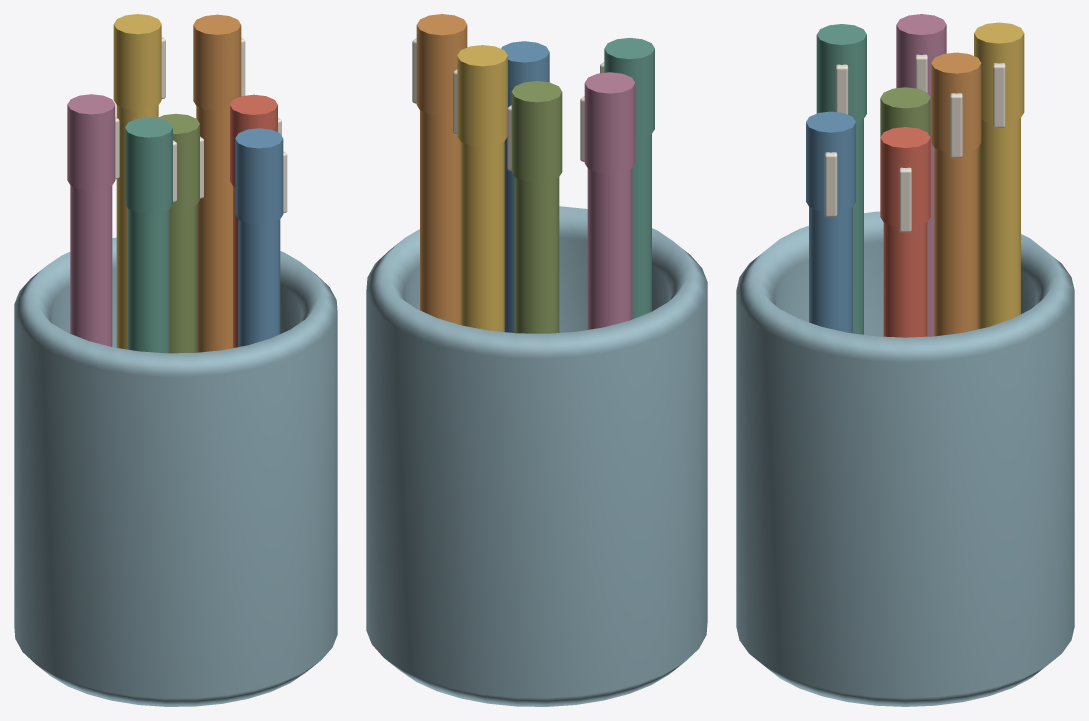
The model's file is urban-marker-cup-v1.glb.
The picture shows the model from 3 angles, left to right: view 1: azimuth 30°, elevation 25°; view 2: azimuth 150°, elevation 25°; view 3: azimuth 270°, elevation 25°; orthographic projection. The views are drawn at different scales.
Parts seen in each view (by area): view 1: Marker-cup, Marker-barrel (×7), Marker-cap (×7); view 2: Marker-cup, Marker-barrel (×6), Marker-cap (×6); view 3: Marker-cup, Marker-barrel (×7), Marker-cap (×7), Marker-cap-clip (×5).
Part boxes in pixels (x1,y1,x2,y2): Marker-cup: [14, 237, 337, 706]; Marker-barrel (×7): [70, 15, 280, 353]; Marker-cap (×7): [67, 14, 283, 224]; Marker-cup: [366, 206, 707, 706]; Marker-barrel (×6): [420, 15, 651, 333]; Marker-cap (×6): [416, 14, 654, 182]; Marker-cup: [736, 211, 1074, 706]; Marker-barrel (×7): [809, 23, 1020, 337]; Marker-cap (×7): [806, 14, 1024, 226]; Marker-cap-clip (×5): [824, 63, 1005, 232].
Size of the model in its own units: 0.054 by 0.108 by 0.054.
